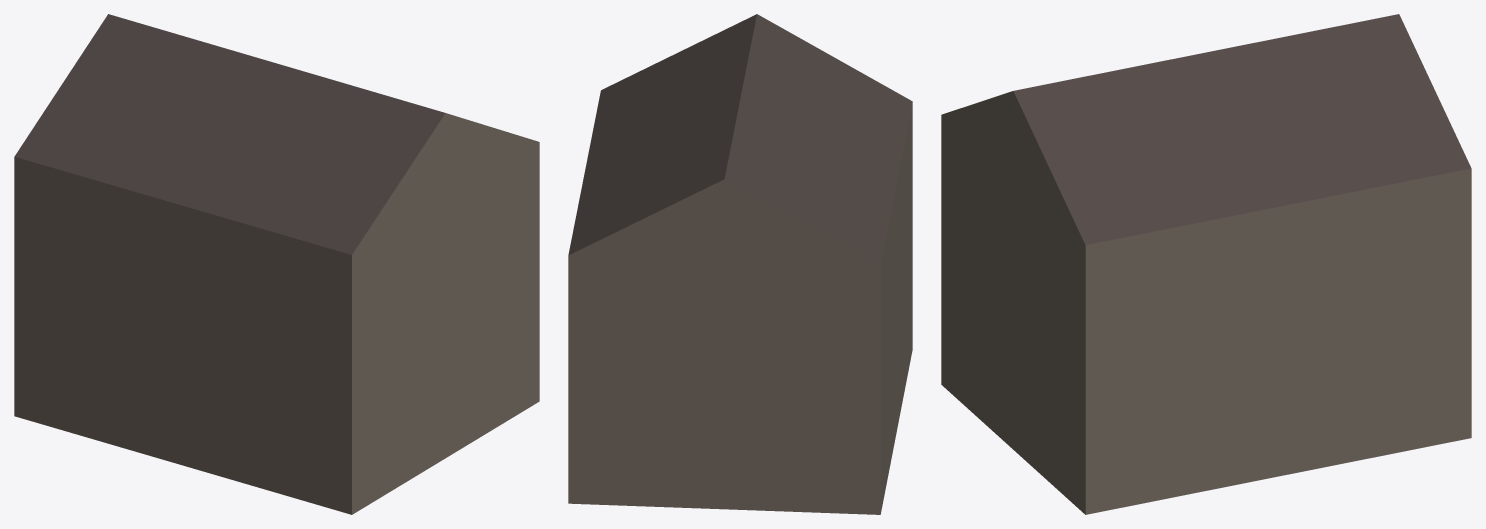
3 views of the same model, side by side, from view 1: azimuth 30°, elevation 25°; view 2: azimuth 150°, elevation 25°; view 3: azimuth 270°, elevation 25° (orthographic). The views are drawn at different scales.
Parts seen in each view (by area): view 1: HP-w378107210; view 2: HP-w378107210; view 3: HP-w378107210.
Part boxes in pixels (bbox=[...]): HP-w378107210: bbox=[14, 14, 539, 514]; HP-w378107210: bbox=[568, 14, 912, 514]; HP-w378107210: bbox=[941, 14, 1471, 514].
Size of the model in its own units: 9.89 by 7.98 by 10.69.
